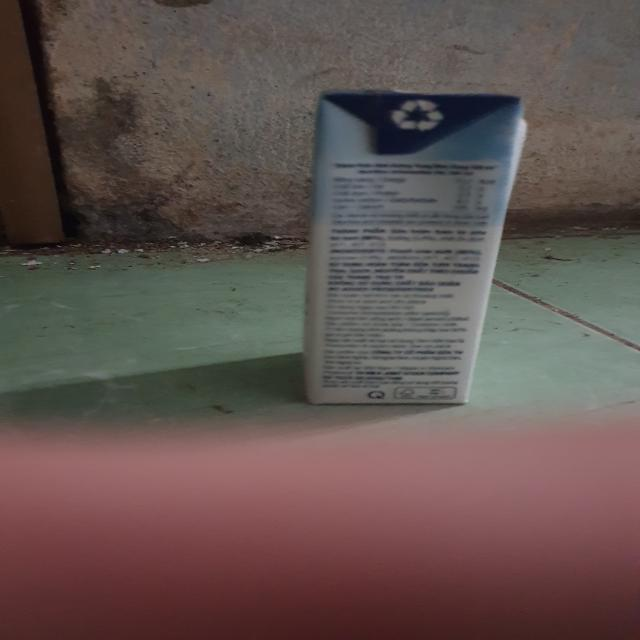TH: (296, 90, 530, 410)
